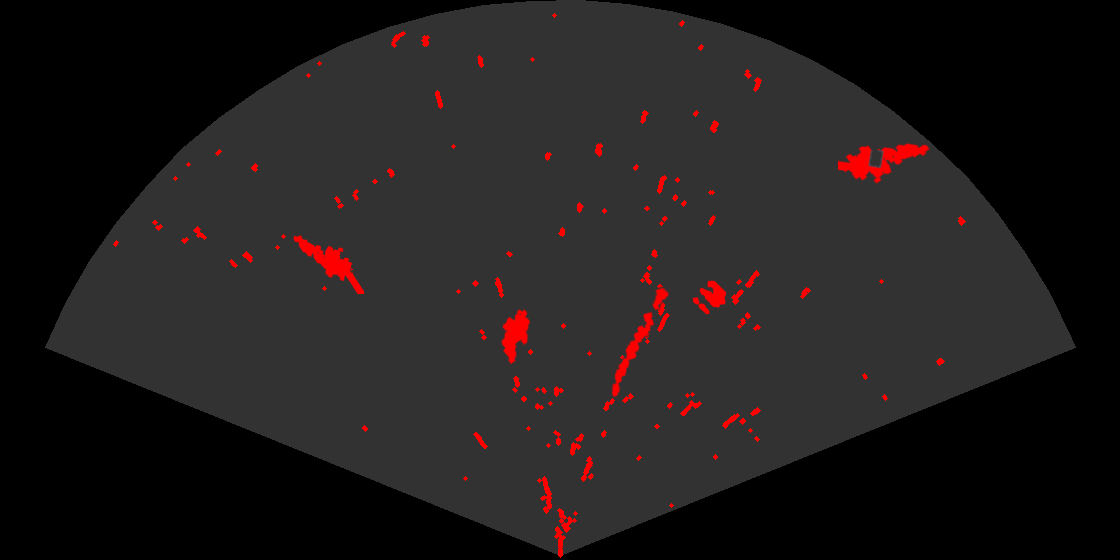AUV: (500, 308, 531, 366)
ball: (691, 279, 728, 316)
chain: (610, 286, 671, 399)
frogman: (292, 234, 364, 294), (838, 142, 931, 185)
